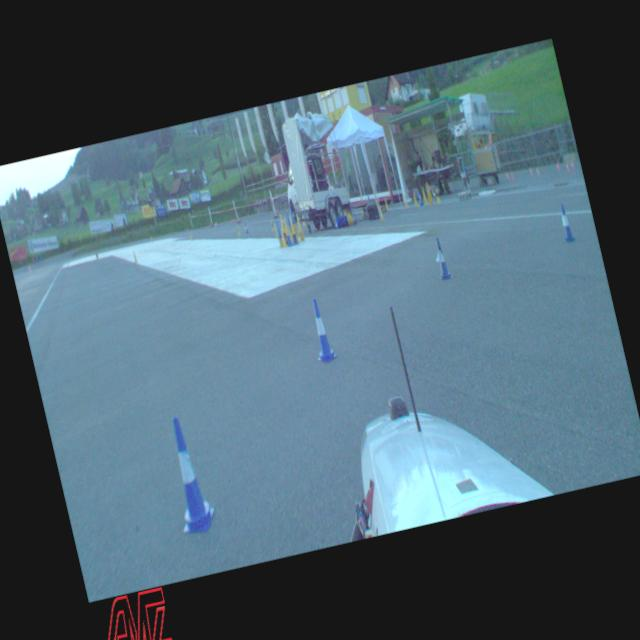blue_cone: (157, 411, 219, 536), (304, 296, 337, 362), (430, 236, 453, 282), (556, 200, 576, 243), (288, 203, 296, 224), (274, 217, 282, 236), (416, 190, 424, 206), (244, 222, 248, 234)
yellow_cone: (282, 216, 290, 236), (279, 228, 287, 248), (294, 212, 302, 230), (288, 214, 295, 234), (278, 212, 285, 232), (272, 219, 278, 239), (434, 188, 441, 204), (412, 191, 418, 207), (402, 192, 408, 208), (383, 194, 389, 210), (132, 248, 138, 262), (268, 218, 274, 232), (236, 224, 240, 235)
